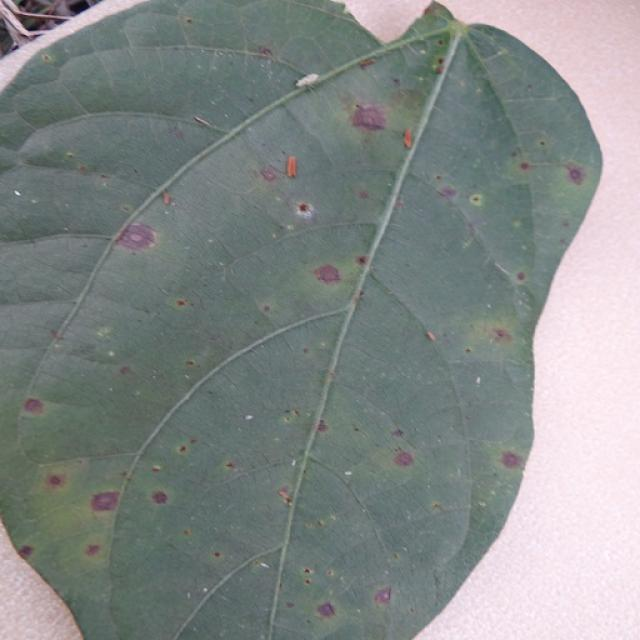Anthracnose: (115, 220, 158, 251), (348, 101, 389, 133), (315, 258, 346, 294), (90, 490, 122, 513), (499, 450, 524, 470), (392, 449, 415, 467), (296, 72, 321, 88), (315, 600, 337, 618), (23, 397, 44, 415), (490, 327, 513, 343), (295, 203, 315, 221), (45, 472, 66, 489), (175, 439, 195, 456), (566, 166, 584, 184), (375, 587, 392, 605), (281, 409, 300, 424), (260, 168, 278, 182), (438, 186, 457, 199), (278, 490, 293, 505), (151, 491, 168, 504), (96, 326, 113, 339), (287, 156, 296, 178), (171, 127, 185, 141), (18, 545, 33, 558), (85, 544, 101, 556), (469, 193, 483, 206), (258, 46, 273, 58), (434, 58, 445, 74), (359, 58, 376, 68), (423, 5, 437, 16), (316, 420, 328, 432), (41, 53, 55, 63), (356, 255, 368, 265), (391, 428, 404, 437), (163, 192, 171, 206), (50, 330, 61, 339), (516, 272, 526, 281), (519, 162, 530, 170), (120, 366, 131, 374), (427, 332, 436, 341), (359, 191, 369, 199), (121, 204, 131, 212), (326, 569, 334, 577), (392, 77, 400, 85), (561, 220, 570, 227), (152, 465, 161, 472), (432, 503, 441, 510), (226, 462, 234, 469), (66, 151, 74, 158), (177, 300, 186, 306), (263, 306, 270, 313), (184, 529, 191, 536), (286, 603, 294, 609), (186, 360, 194, 366), (78, 165, 86, 171), (31, 198, 39, 204), (100, 174, 109, 179), (303, 347, 309, 354), (185, 18, 192, 24), (245, 415, 253, 420), (539, 140, 545, 146), (304, 568, 310, 574), (214, 552, 220, 558), (305, 579, 311, 585), (526, 84, 532, 90), (355, 104, 361, 110), (190, 439, 197, 444), (465, 348, 471, 353), (438, 40, 444, 45), (436, 175, 441, 180)
Blackgram: (0, 0, 604, 639)
